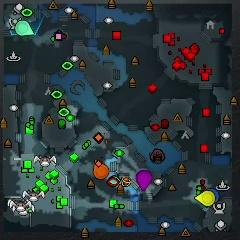p1: (206, 187, 220, 203)
p2: (15, 19, 35, 36)
p3: (136, 169, 153, 191)
p4: (195, 191, 215, 208)
p5: (92, 158, 110, 180)
